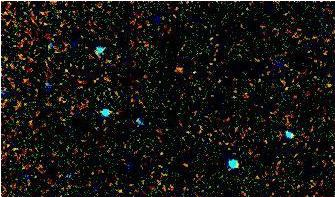star: (162, 51, 192, 81)
